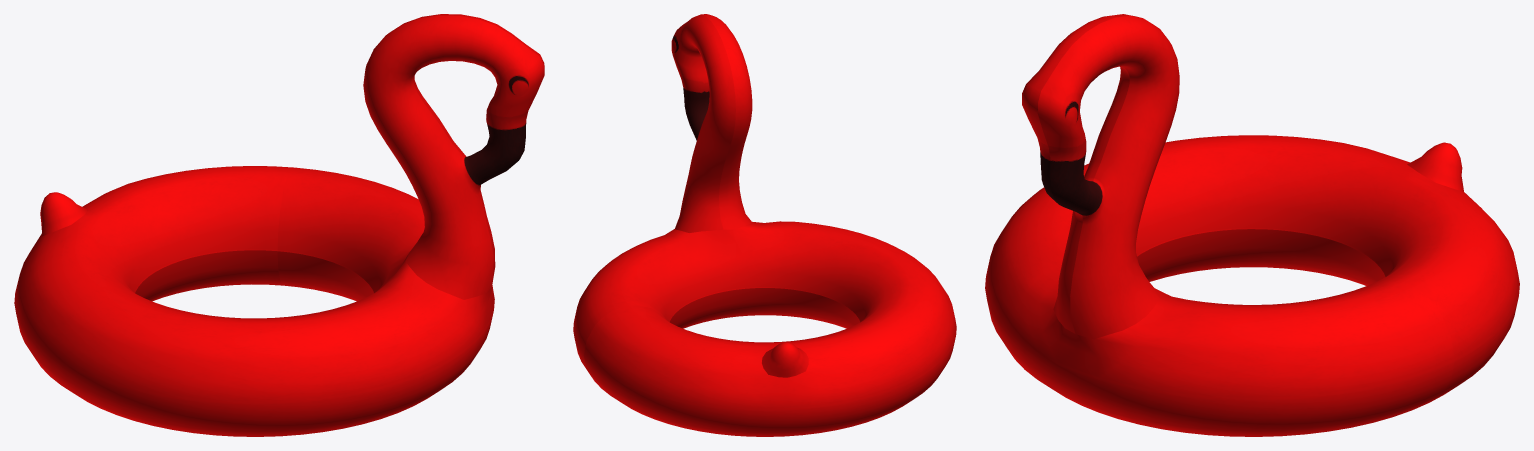
The model's file is Flamingo.gltf.
The picture shows the model from 3 angles, left to right: view 1: azimuth 30°, elevation 25°; view 2: azimuth 150°, elevation 25°; view 3: azimuth 270°, elevation 25°; orthographic projection. The views are drawn at different scales.
Parts seen in each view (by area): view 1: Flamingp; view 2: Flamingp; view 3: Flamingp.
Boxes of the visible parts, left/top/right/bottom form: Flamingp: left=14, top=14, right=544, bottom=436; Flamingp: left=573, top=14, right=956, bottom=436; Flamingp: left=985, top=14, right=1519, bottom=436.
Size of the model in its own units: 0.7944 by 0.6486 by 0.7944.
1 material, 1 textured.
